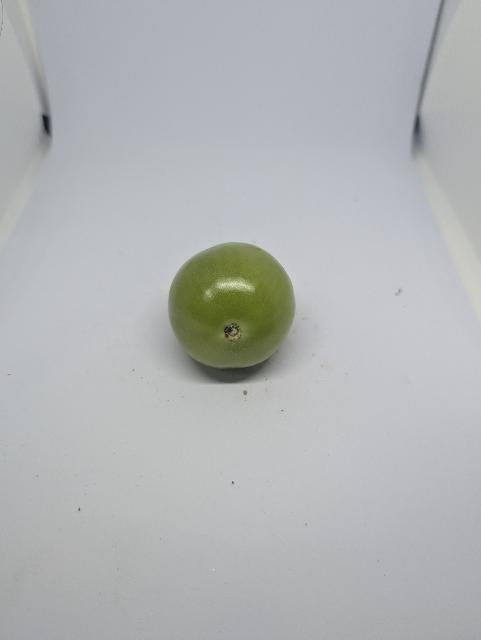green: (151, 225, 305, 382)
